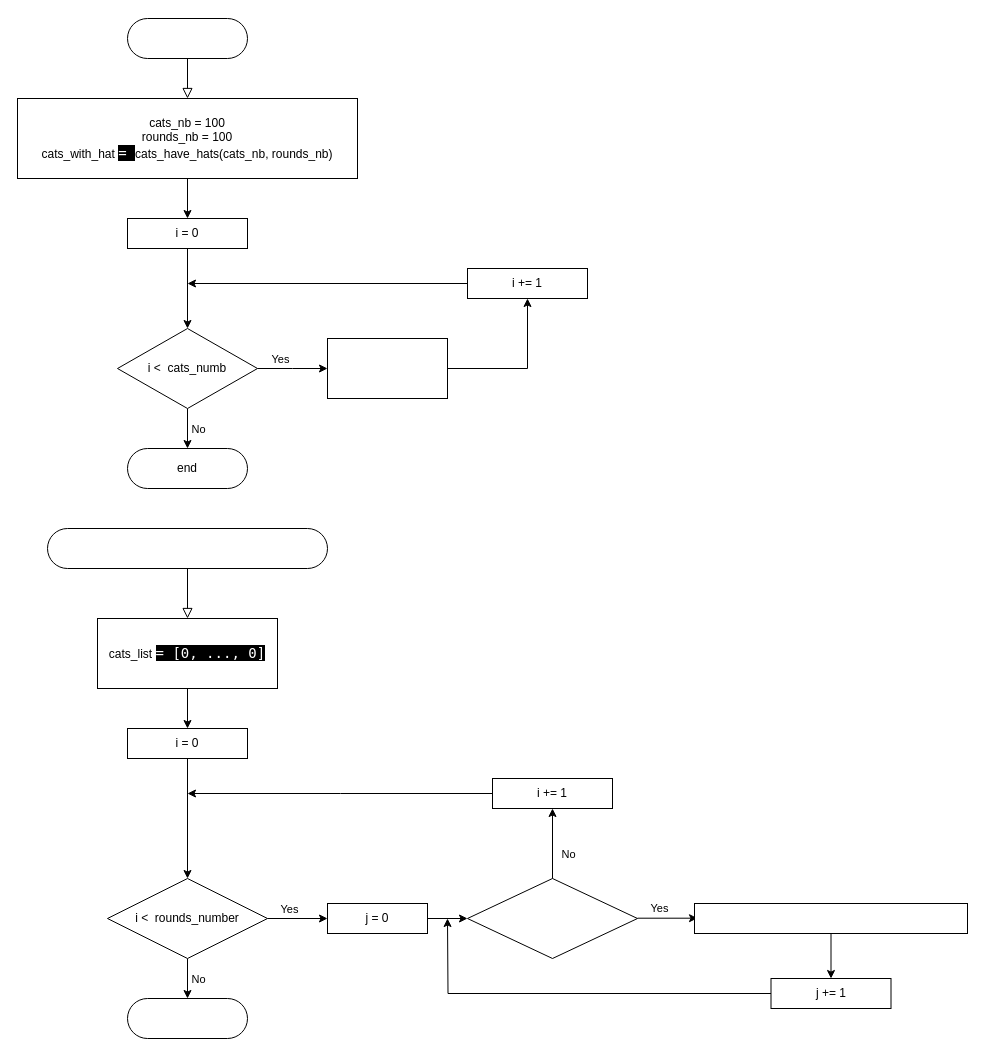
This 985x1056 diagram has some shape labels left out. Here are the shapes that lost their labels. From the top down, the centre of each, then its label:
At (x=187, y=38): "main".
At (x=387, y=368): "cats_with_hat [ i ]".
At (x=187, y=548): "cats_have_hats(cats_number, rounds_number )".
At (x=552, y=918): "j < cats_number".
At (x=831, y=918): "cats_list[j] = 1 if cats_list[j] == 0 else 0".
At (x=187, y=1018): "return cats_list".
